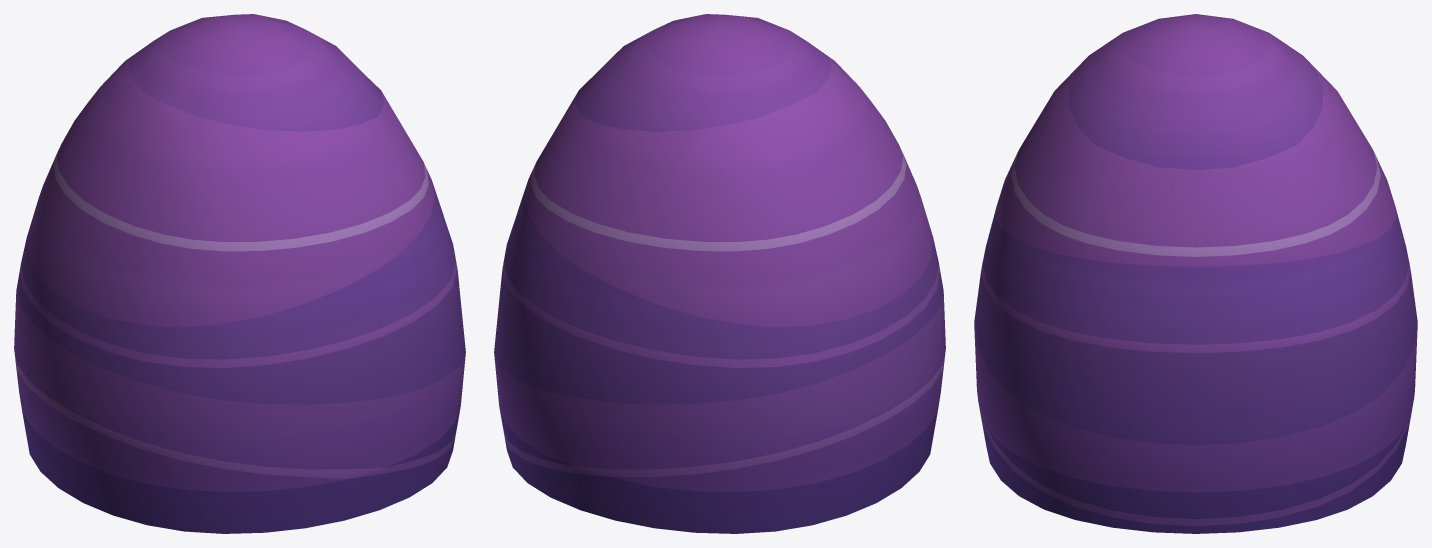
Rendered from Mountain_01.glb.
The picture shows the model from 3 angles, left to right: view 1: azimuth 30°, elevation 25°; view 2: azimuth 150°, elevation 25°; view 3: azimuth 270°, elevation 25°; orthographic projection.
Visible parts, largest first — view 1: Mountain_01; view 2: Mountain_01; view 3: Mountain_01.
Boxes of the visible parts, x1,y1,x2,y2 form: Mountain_01: (14,14,465,533); Mountain_01: (494,14,945,533); Mountain_01: (974,14,1417,533).
Bounding box in the file's own units: 30.62 × 31.71 × 30.48.
Materials: 1 (1 with a texture image).
